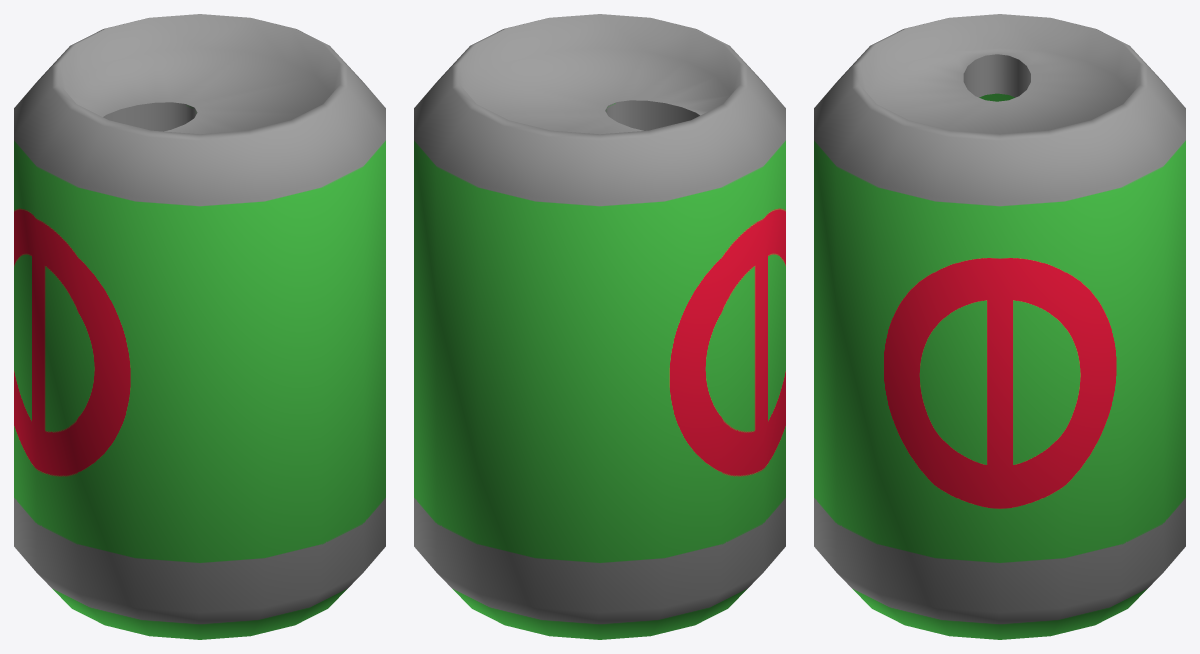
The model's file is Can.fbx.
3 renders of one model, left to right at view 1: azimuth 30°, elevation 25°; view 2: azimuth 150°, elevation 25°; view 3: azimuth 270°, elevation 25°, orthographic.
Visible parts, largest first — view 1: Cylinder001; view 2: Cylinder001; view 3: Cylinder001.
Boxes of the visible parts, left/top/right/bottom form: Cylinder001: left=14, top=14, right=385, bottom=639; Cylinder001: left=414, top=14, right=785, bottom=639; Cylinder001: left=814, top=14, right=1185, bottom=639.
Size of the model in its own units: 20 by 29.61 by 19.7.
